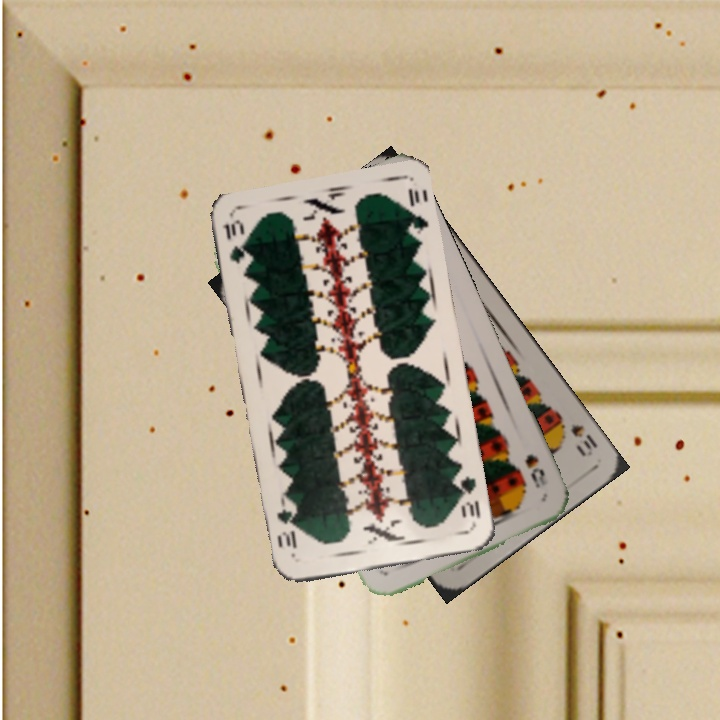G10: (451, 469, 483, 521), (219, 215, 249, 267)
S10: (566, 419, 601, 460)
S8: (521, 450, 551, 491)
